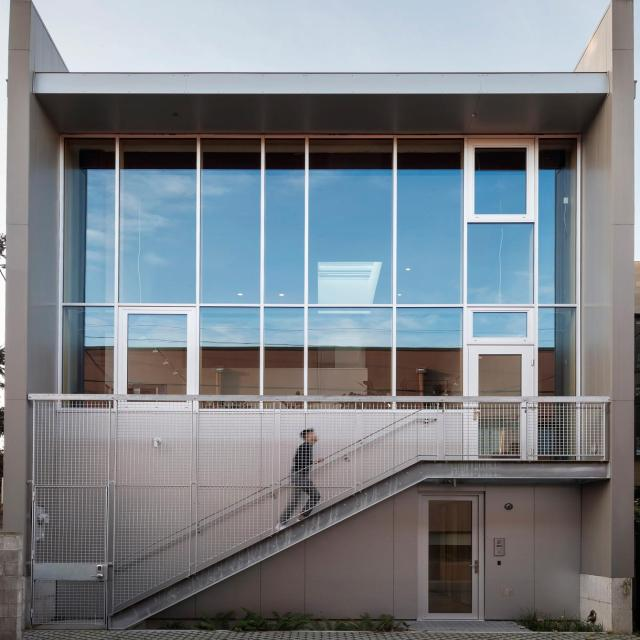door: (417, 492, 487, 624), (465, 343, 534, 461)
railing: (27, 400, 609, 630)
window: (61, 138, 577, 410)
